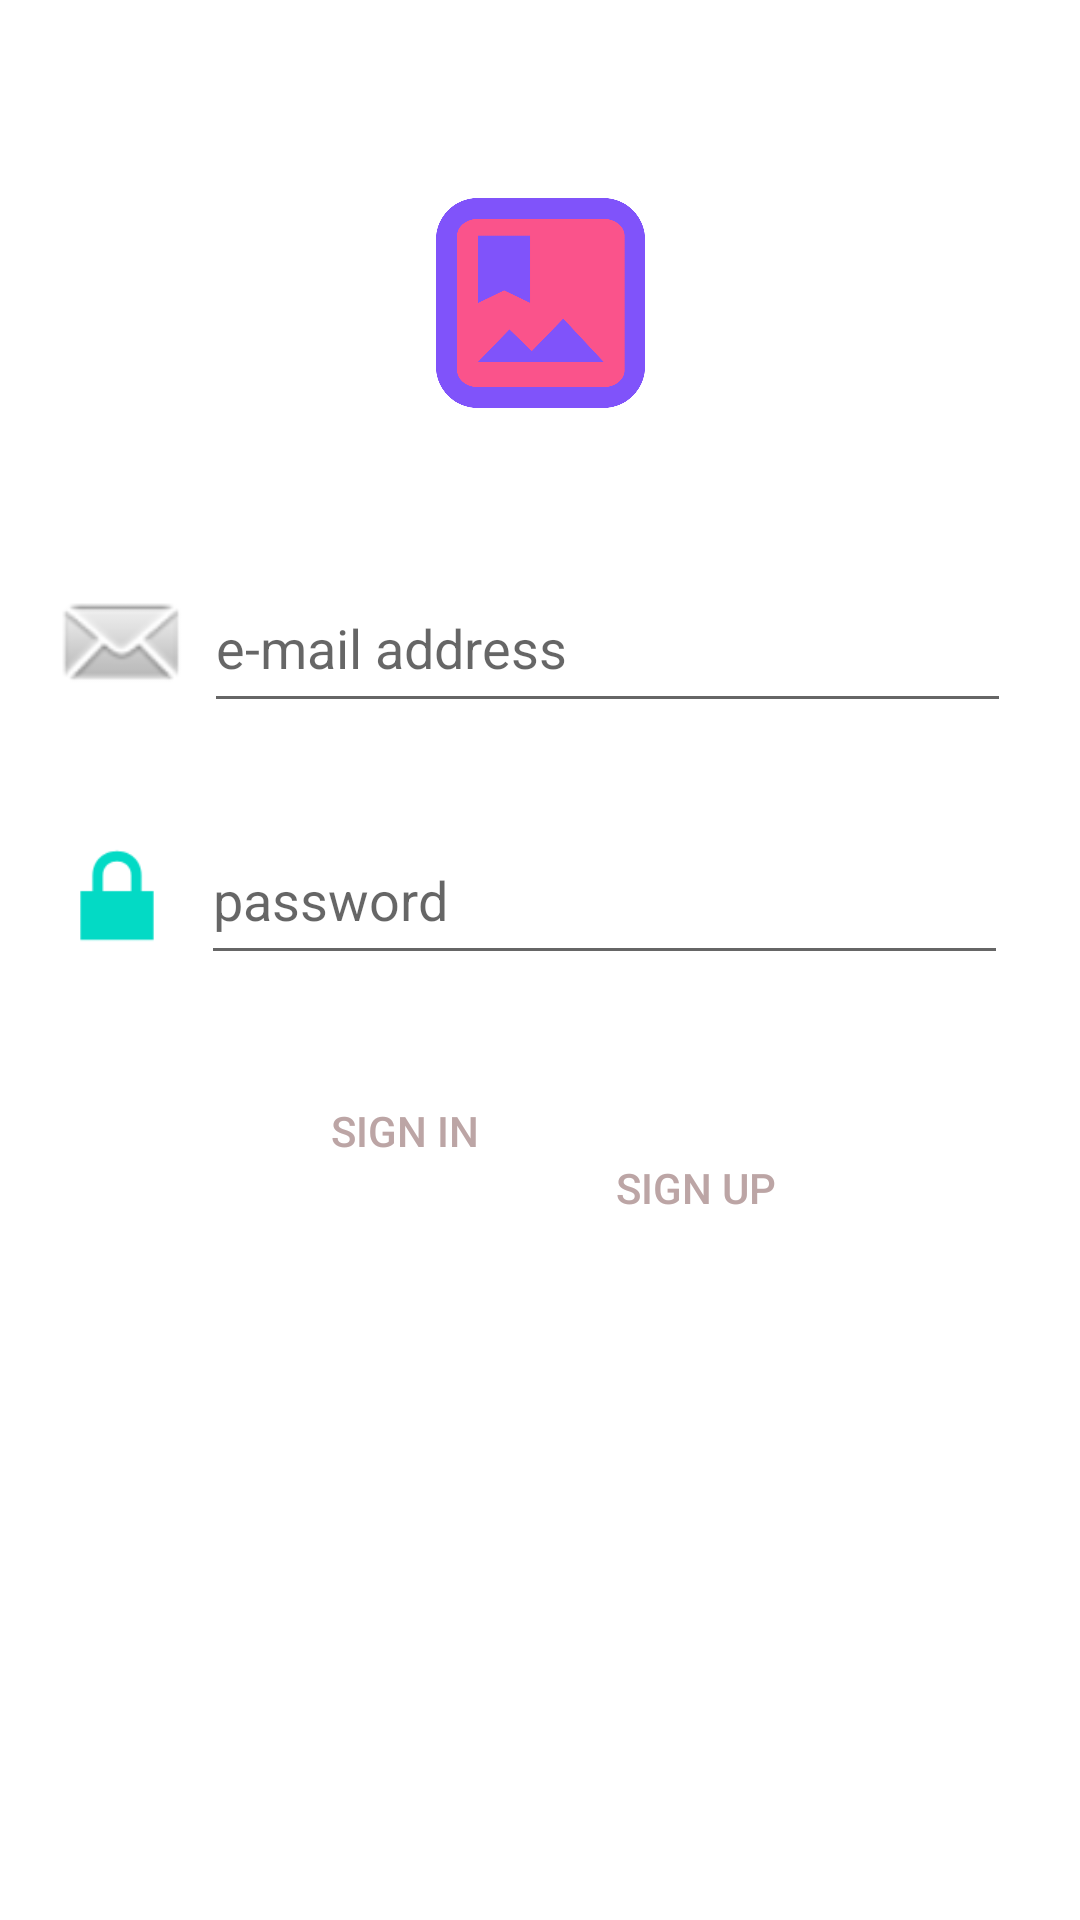

Screen size 1080px x 1920px. Icon name, then its center in pixels as (x=x, y=y):
lock: (x=117, y=895)
sym action email: (x=121, y=641)
